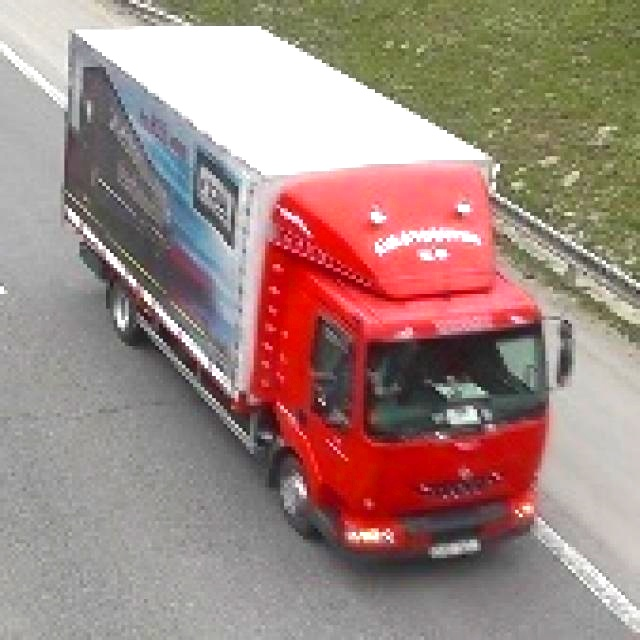truck: (41, 12, 594, 584)
